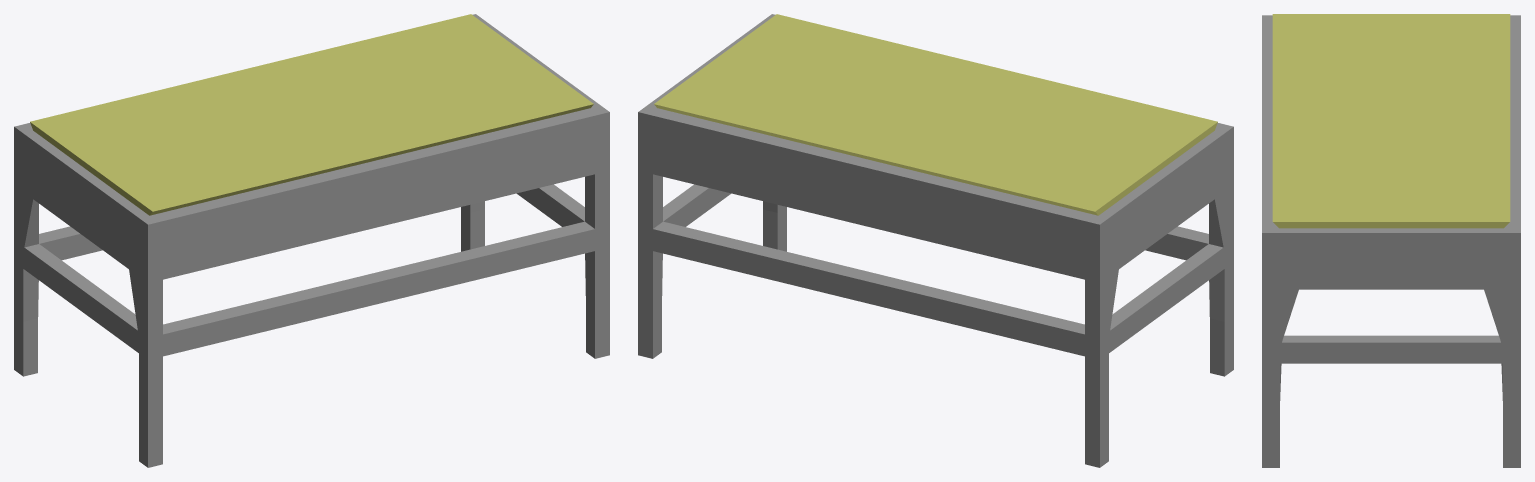
The model's file is CoffeeTable.fbx.
The picture shows the model from 3 angles, left to right: view 1: azimuth 30°, elevation 25°; view 2: azimuth 150°, elevation 25°; view 3: azimuth 270°, elevation 25°; orthographic projection. The views are drawn at different scales.
Parts seen in each view (by area): view 1: Fridge; view 2: Fridge; view 3: Fridge.
Part boxes in pixels (x1,y1,x2,y2): Fridge: (14, 14, 609, 467); Fridge: (638, 14, 1233, 467); Fridge: (1262, 14, 1520, 467).
Size of the model in its own units: 1177 by 608 by 592.
